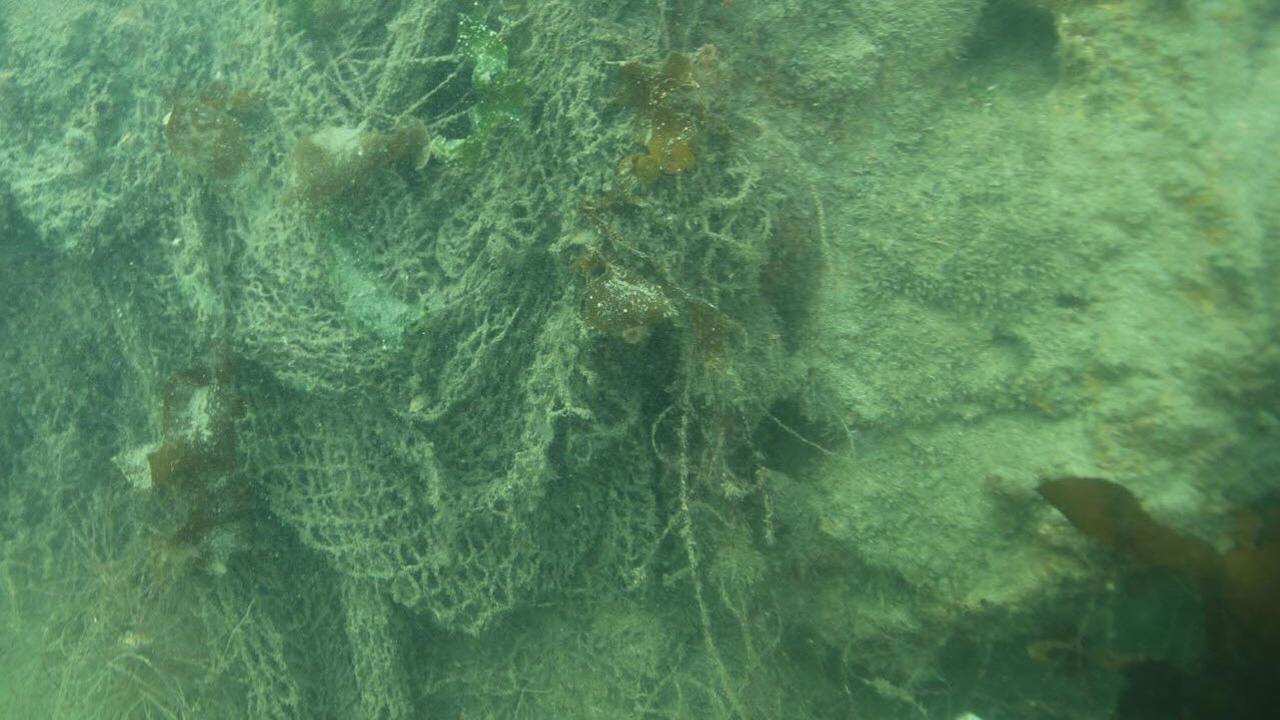fish net: (0, 0, 661, 720)
